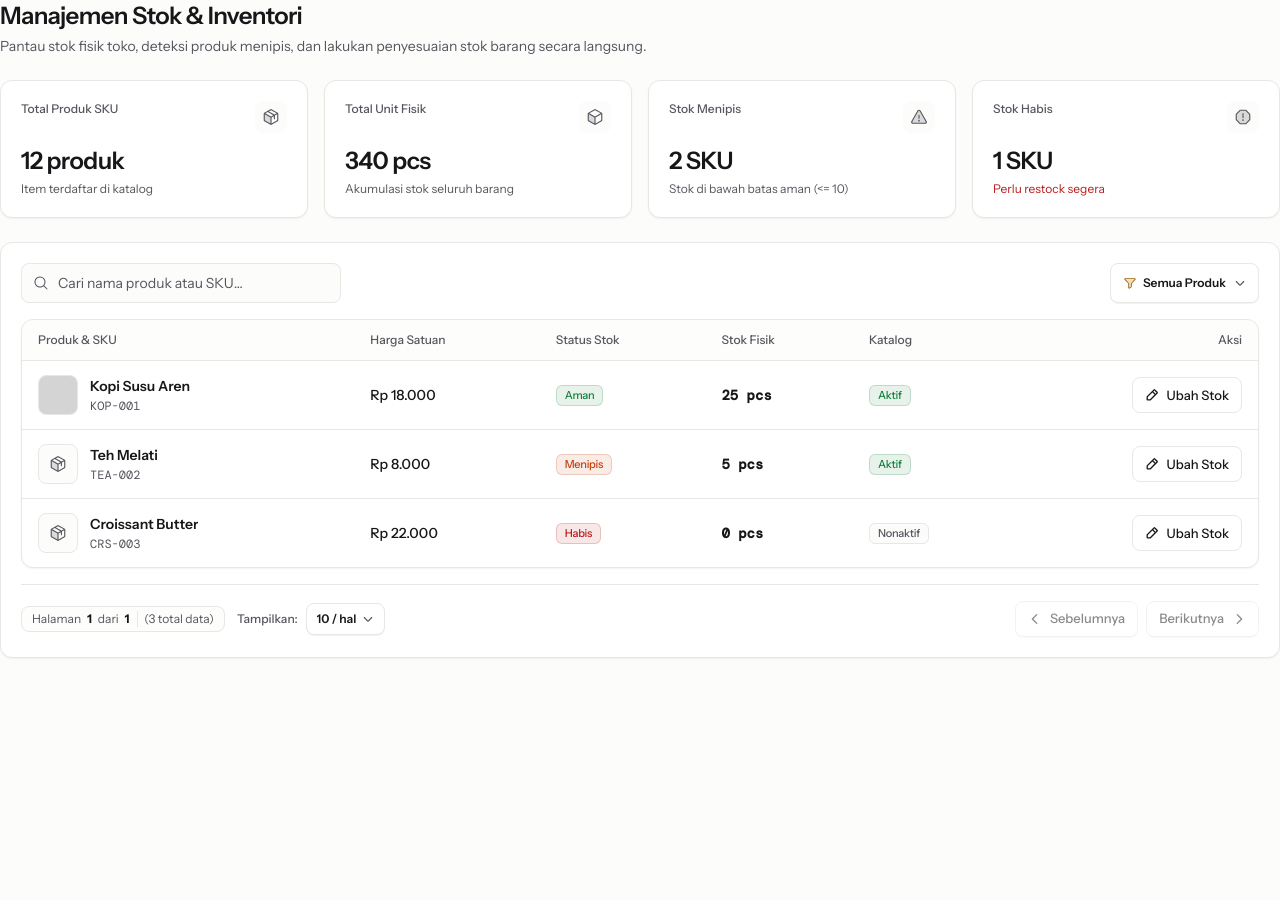
Test: InventoryView › rejects invalid float or negative stock in modal without mutating
The width and height of the screenshot is (1280, 900).
Click the button "Ubah Stok" in the row of "Kopi Susu Aren" at (1187, 395), box [1132,377,1242,413]
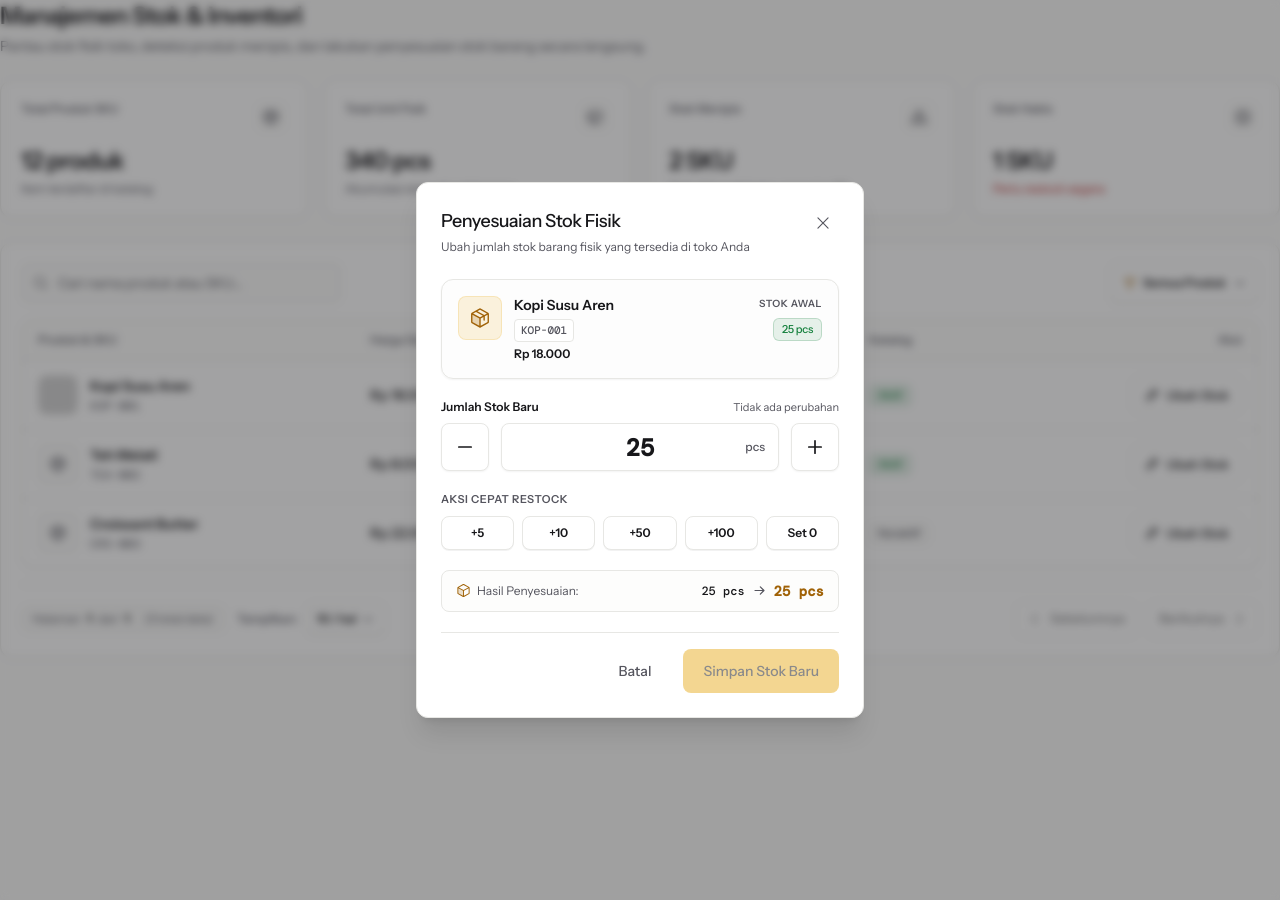
# Type float value
Replace the text in the field labelled "Jumlah Stok Baru" with "1.5" at (640, 447), box [501,423,779,471]
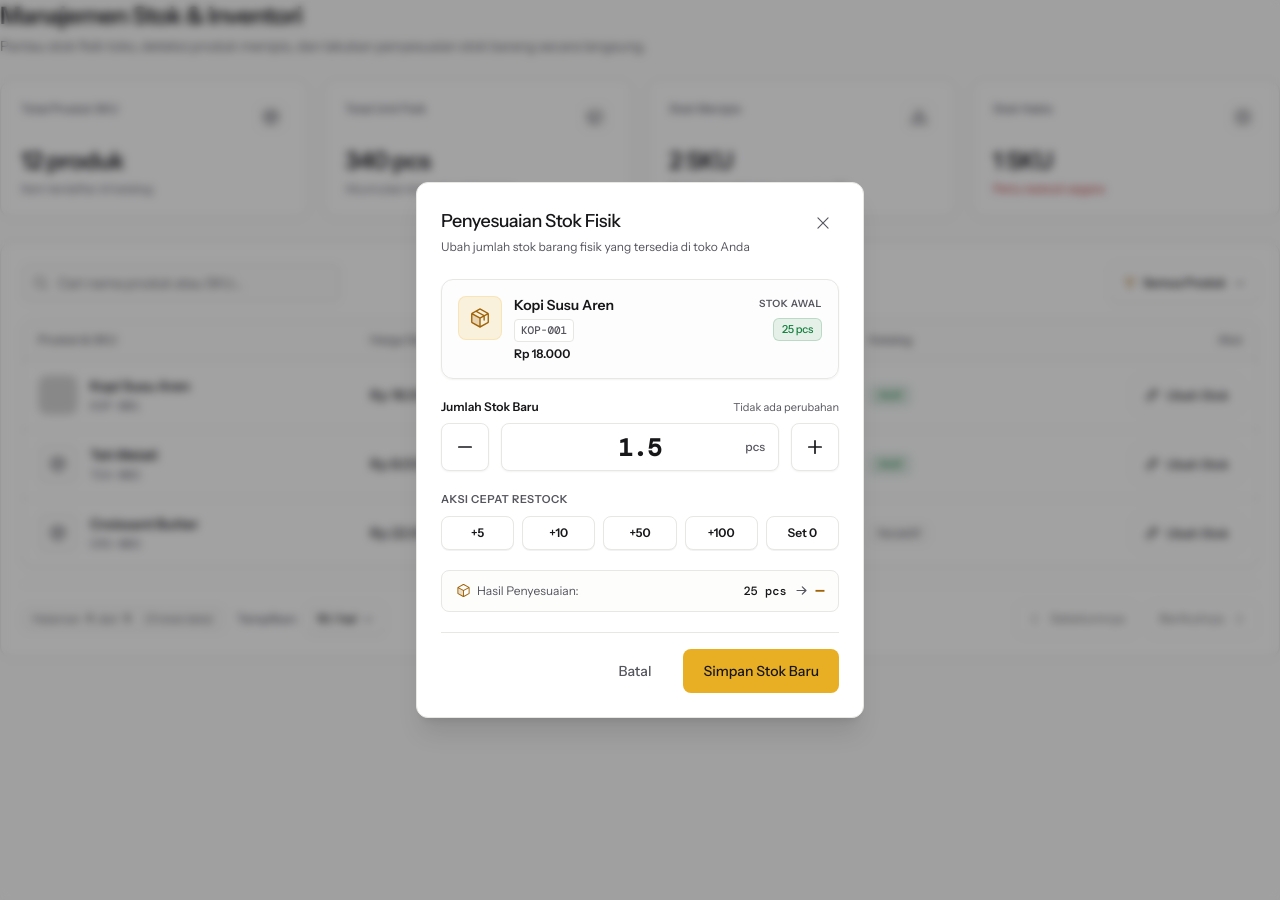
Click the button "Simpan Stok Baru" at (761, 671), box [683,649,839,693]
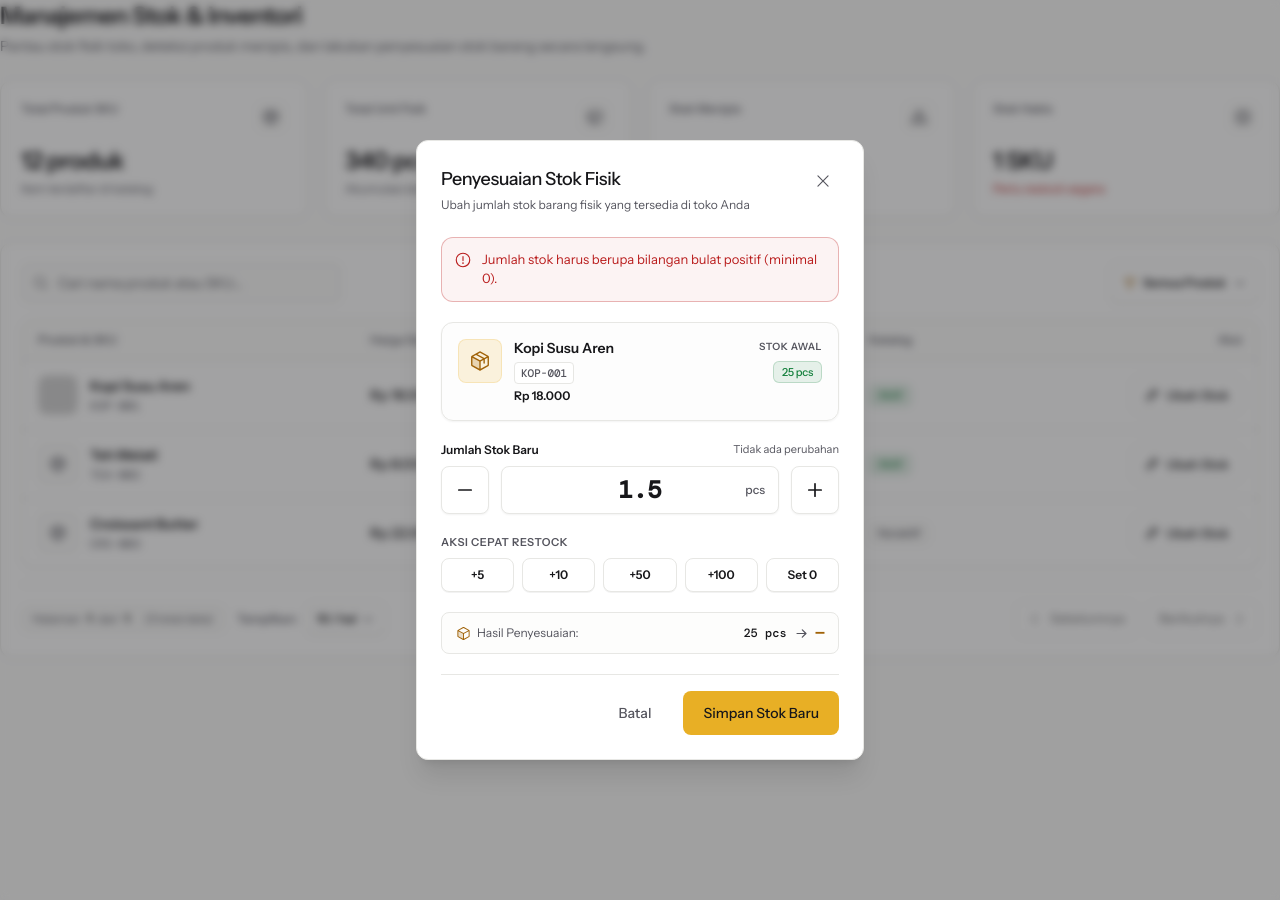
Expected: the text "Jumlah stok harus berupa bilangan bulat positif (minimal 0)." is shown, [482,250,826,289]
# Type negative value
Replace the text in the field labelled "Jumlah Stok Baru" with "-10" at (640, 490), box [501,466,779,514]
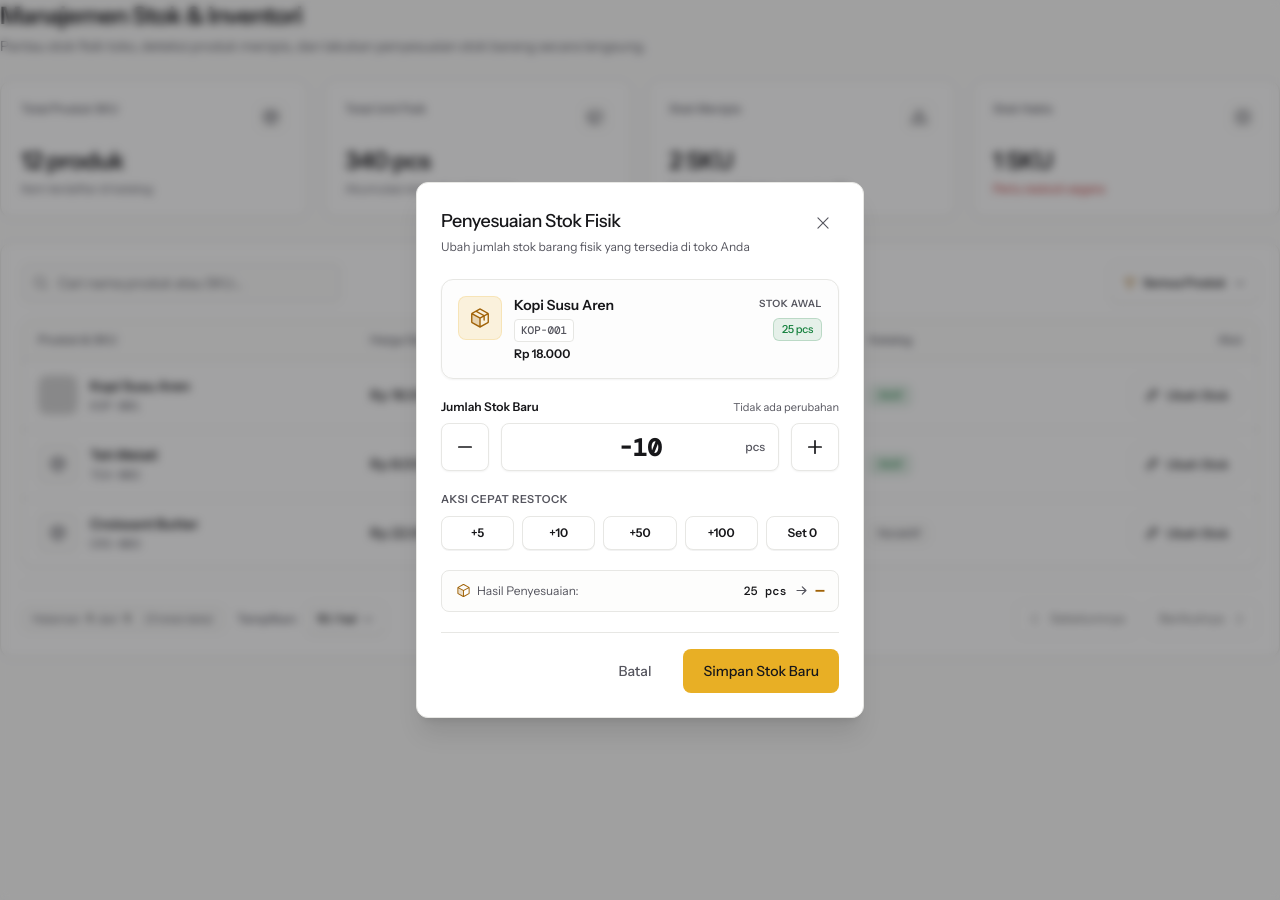
Click the button "Simpan Stok Baru" at (761, 671), box [683,649,839,693]
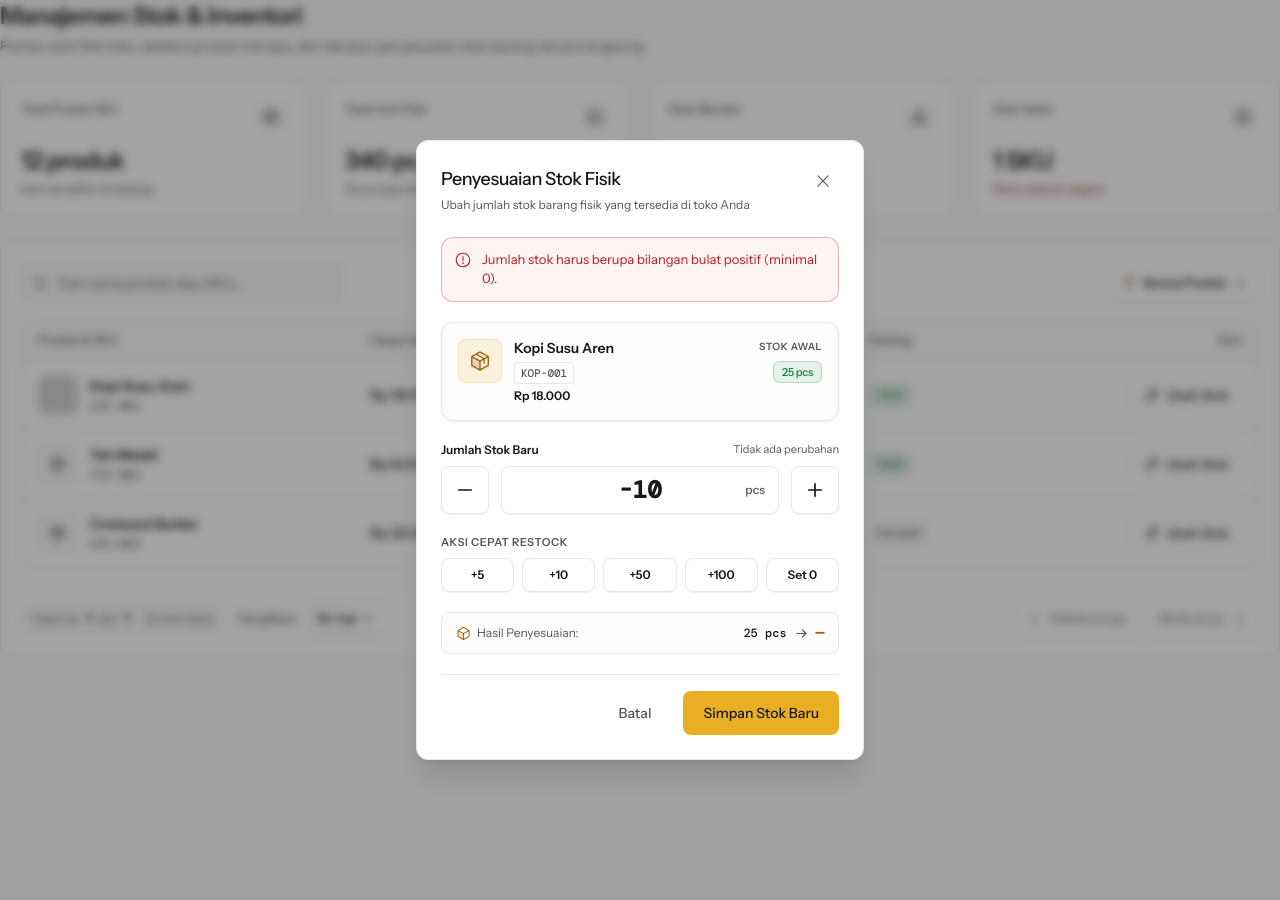
Expected: the text "Jumlah stok harus berupa bilangan bulat positif (minimal 0)." is shown, [482,250,826,289]
